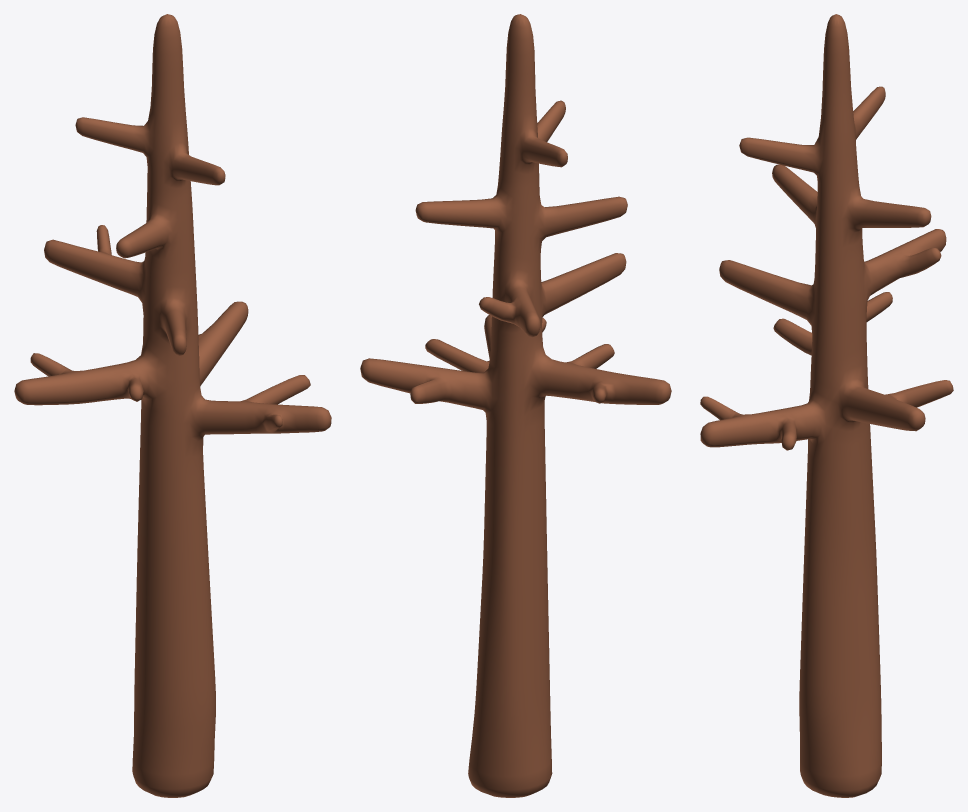
Rendered from DeadTrunk_A_01.fbx.
The picture shows the model from 3 angles, left to right: view 1: azimuth 30°, elevation 25°; view 2: azimuth 150°, elevation 25°; view 3: azimuth 270°, elevation 25°; orthographic projection.
Visible parts, largest first — view 1: DeadTrunk_A_01_LOD0; view 2: DeadTrunk_A_01_LOD0; view 3: DeadTrunk_A_01_LOD0.
Boxes of the visible parts, box(x1,y1,x2,y2) form: DeadTrunk_A_01_LOD0: box(14, 14, 331, 797); DeadTrunk_A_01_LOD0: box(360, 14, 671, 797); DeadTrunk_A_01_LOD0: box(700, 14, 953, 797).
Size of what is drawn, in the model's own units: 518 by 1427 by 425.
